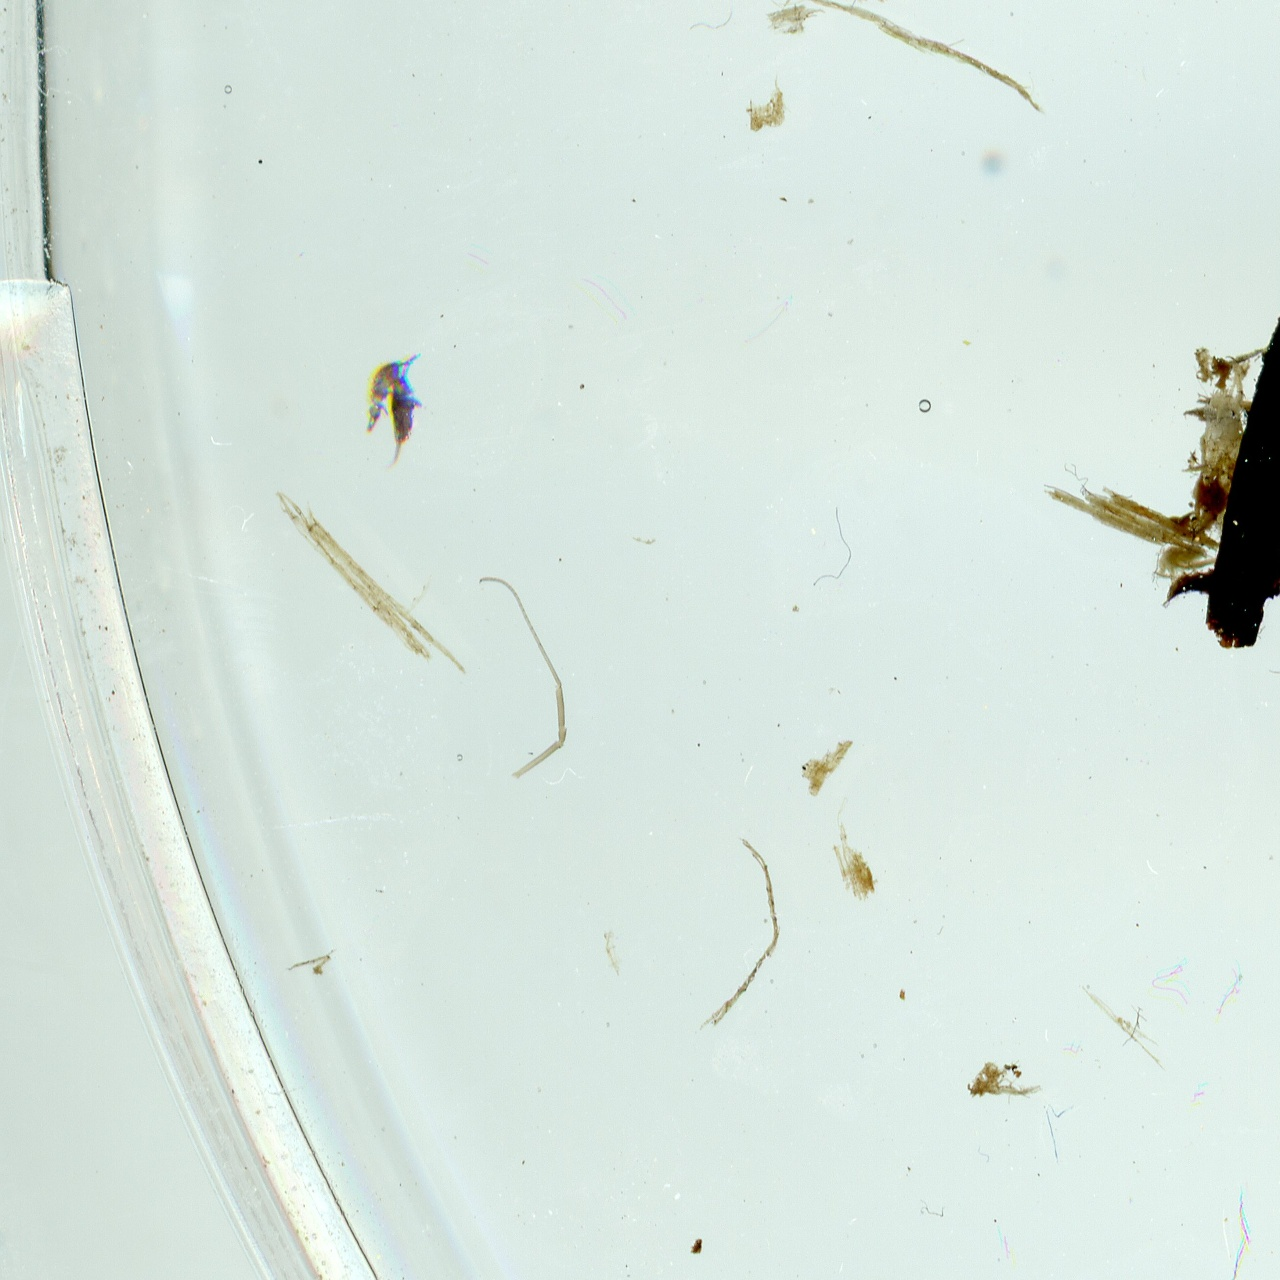arthropod: (359, 344, 425, 444), (378, 349, 425, 476)
